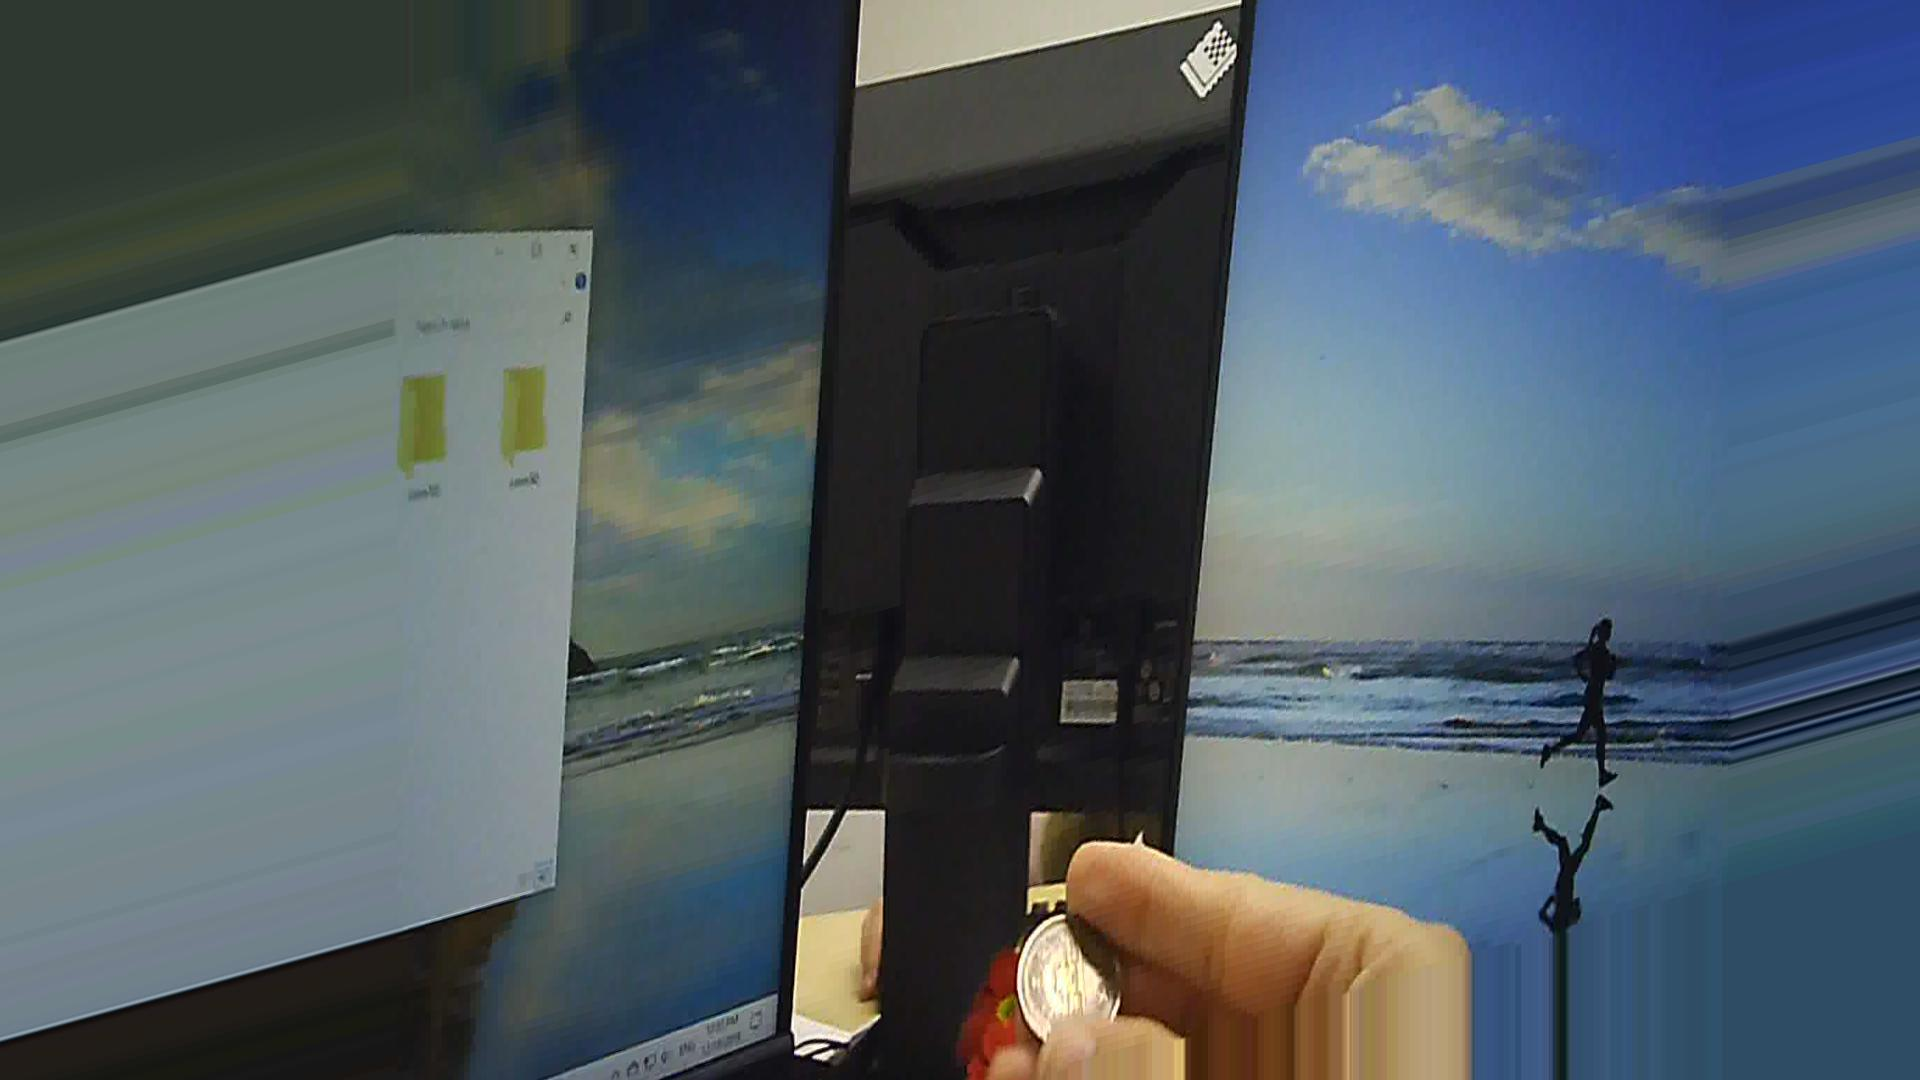10 Yen: (1014, 899, 1126, 1040)
